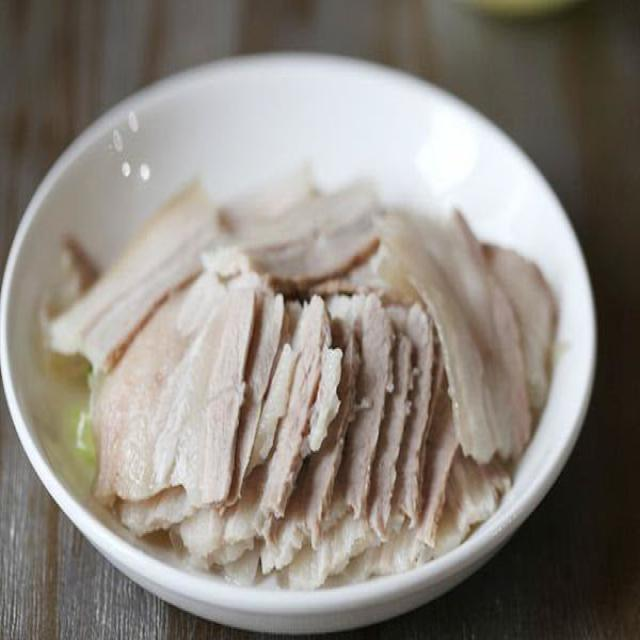thit luoc: (46, 186, 557, 584)
